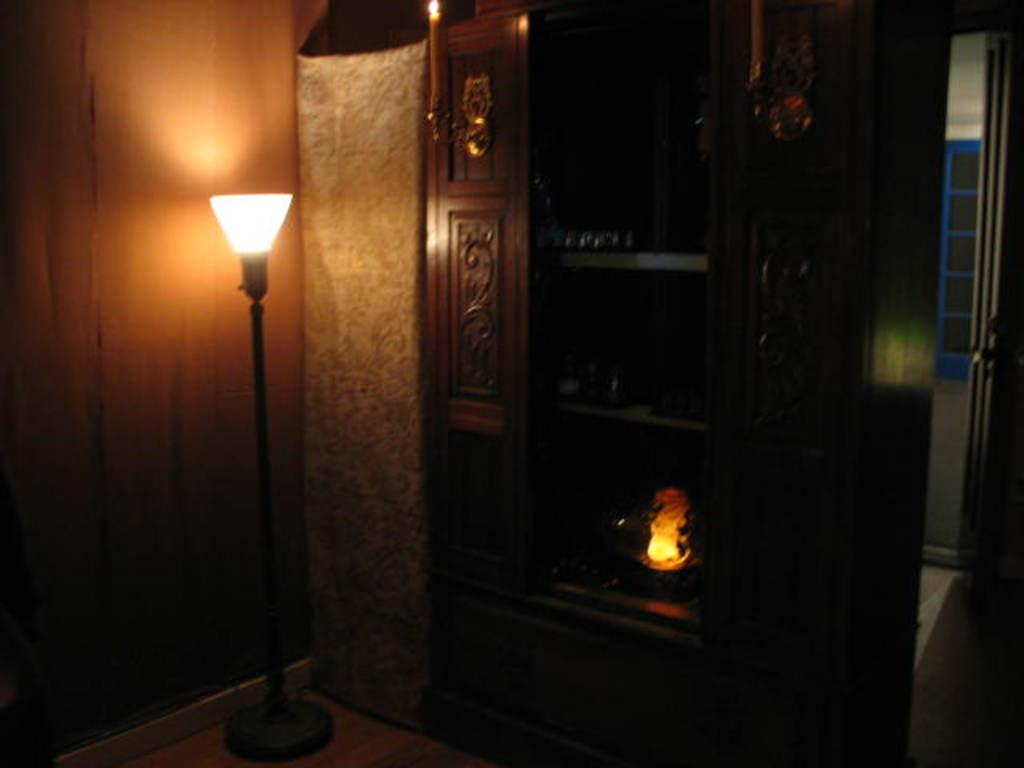fire: (632, 493, 697, 572)
